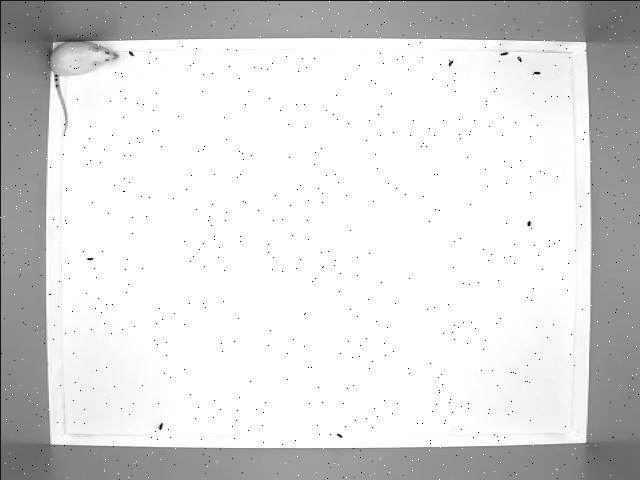Tikus: (47, 38, 119, 138)
